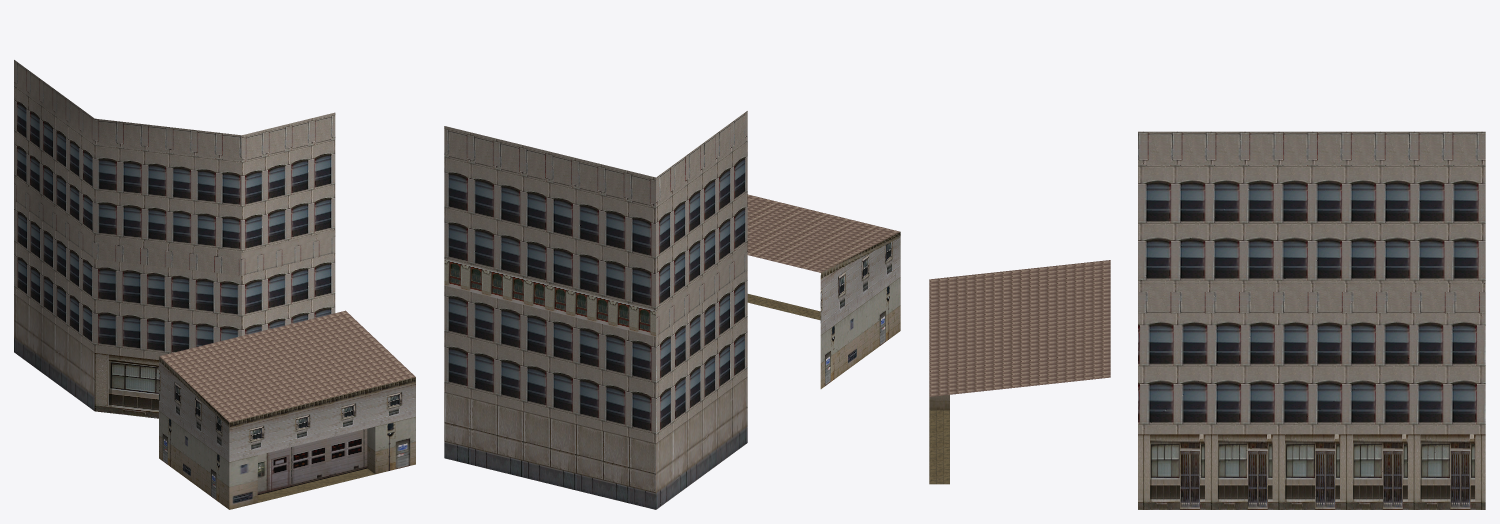
Rendered from M2Zone1_Garage1.glb.
3 views of the same model, side by side, from view 1: azimuth 30°, elevation 25°; view 2: azimuth 150°, elevation 25°; view 3: azimuth 270°, elevation 25° (orthographic). The views are drawn at different scales.
Parts seen in each view (by area): view 1: M2ZONE1_GARAGE1; view 2: M2ZONE1_GARAGE1; view 3: M2ZONE1_GARAGE1.
Boxes of the visible parts, bbox=[...] form: M2ZONE1_GARAGE1: bbox=[14, 60, 415, 509]; M2ZONE1_GARAGE1: bbox=[444, 111, 900, 509]; M2ZONE1_GARAGE1: bbox=[929, 131, 1485, 509].
Bounding box in the file's own units: 16 × 24 × 32.
Materials: 12 (12 with a texture image).
